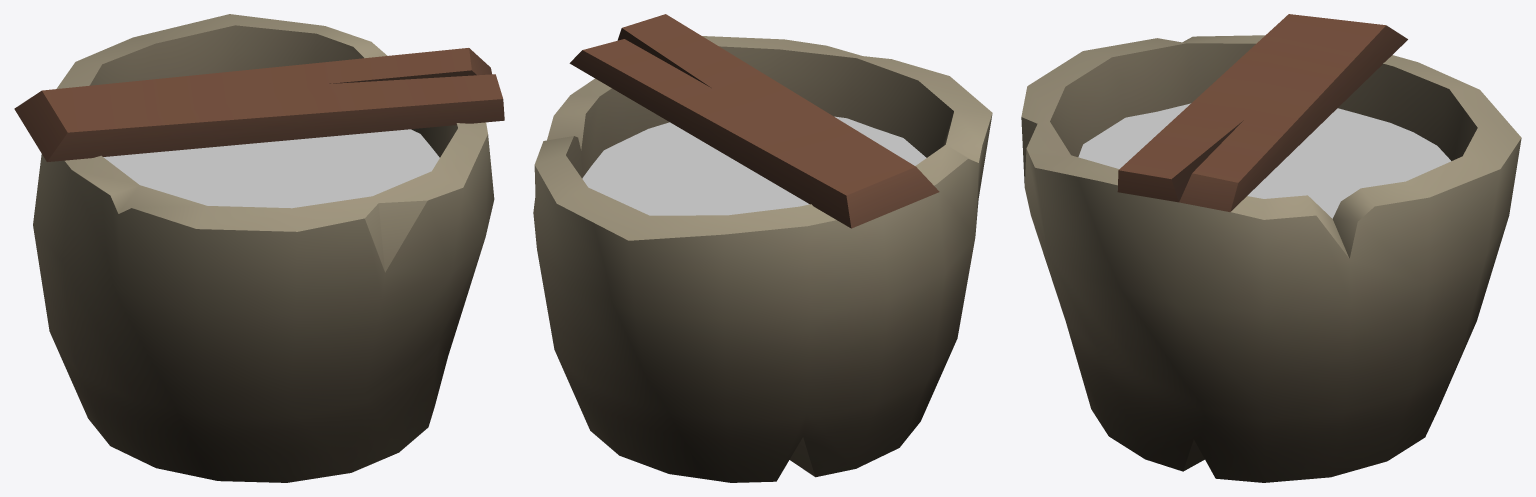
File: Tannery_Bowl_1B.fbx
The picture shows the model from 3 angles, left to right: view 1: azimuth 30°, elevation 25°; view 2: azimuth 150°, elevation 25°; view 3: azimuth 270°, elevation 25°; orthographic projection. The views are drawn at different scales.
Visible parts, largest first — view 1: Tannery_Bowl_1B; view 2: Tannery_Bowl_1B; view 3: Tannery_Bowl_1B.
Boxes of the visible parts, bbox=[...] form: Tannery_Bowl_1B: bbox=[14, 14, 504, 482]; Tannery_Bowl_1B: bbox=[533, 14, 992, 482]; Tannery_Bowl_1B: bbox=[1021, 14, 1521, 482].
Size of the model in its own units: 125 by 92.56 by 132.
